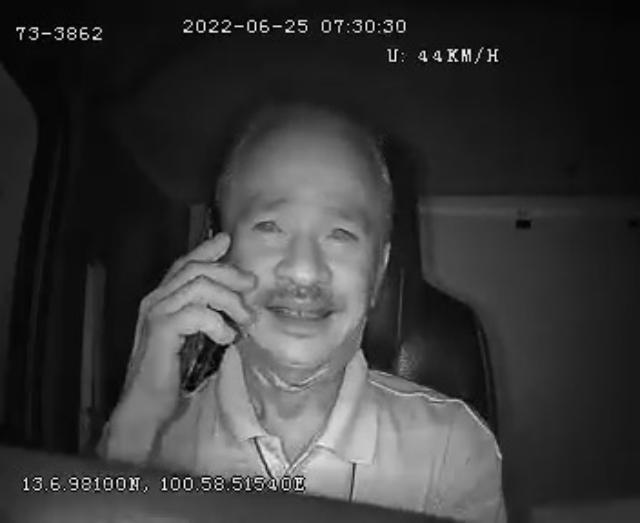PhoneUse: (176, 202, 228, 398)
SafeDriving: (316, 210, 368, 253), (245, 203, 292, 242)
